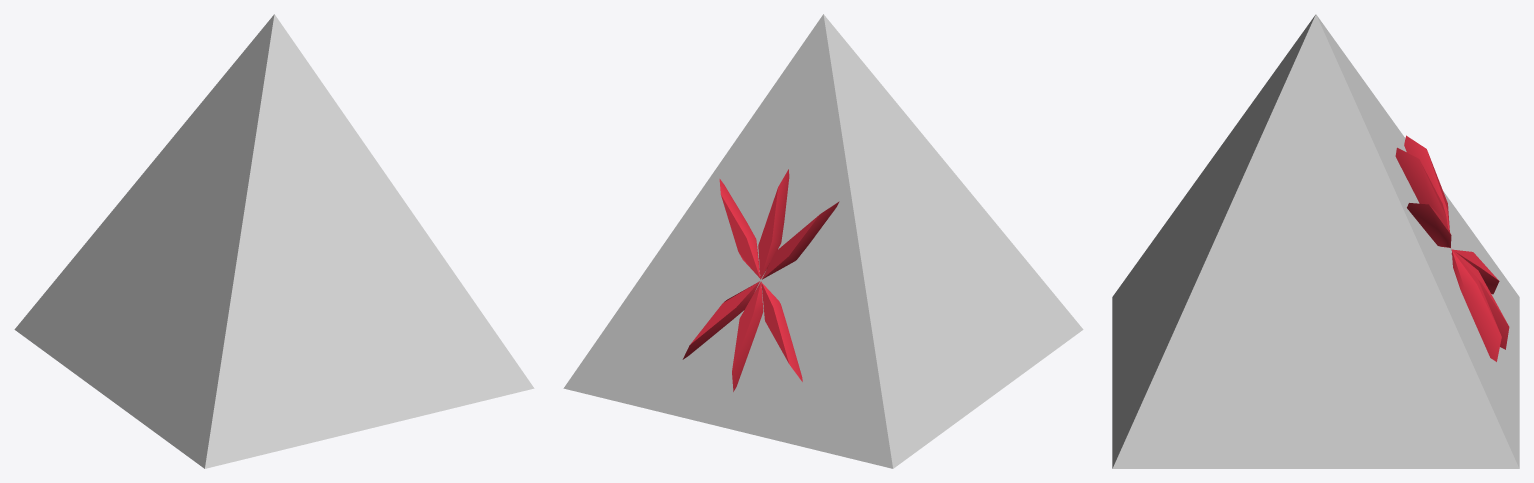
File: Glass Chaser.fbx
3 renders of one model, left to right at view 1: azimuth 30°, elevation 25°; view 2: azimuth 150°, elevation 25°; view 3: azimuth 270°, elevation 25°, orthographic. The views are drawn at different scales.
Visible parts, largest first — view 1: Cube; view 2: Cube, Cube.001; view 3: Cube, Cube.001.
Part boxes in pixels (x1,y1,x2,y2): Cube: [14, 14, 534, 468]; Cube: [563, 14, 1083, 468]; Cube.001: [682, 169, 839, 391]; Cube: [1112, 14, 1519, 468]; Cube.001: [1395, 135, 1509, 361].
Bounding box in the file's own units: 849 × 849 × 849.
